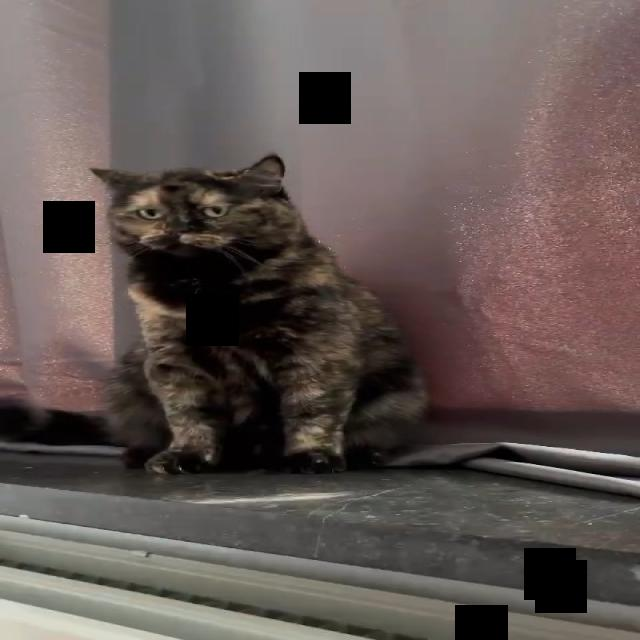authorized: (87, 152, 430, 476)
